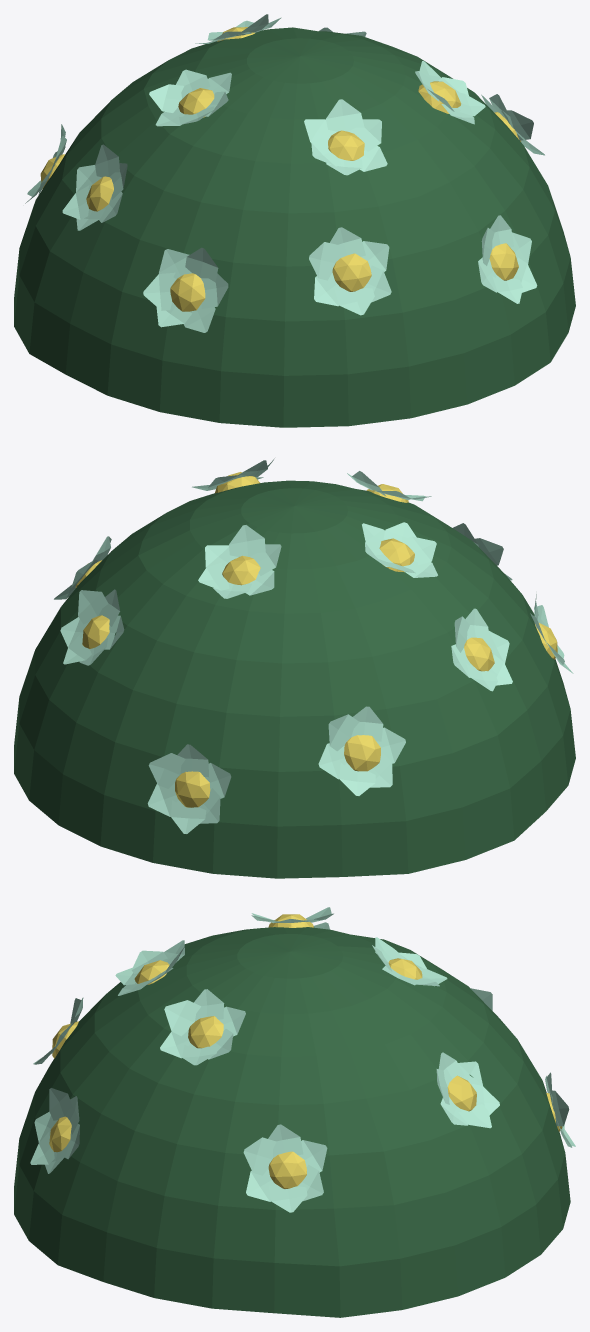
The model's file is arbusto3.glb.
The picture shows the model from 3 angles, top to bottom: view 1: azimuth 30°, elevation 25°; view 2: azimuth 150°, elevation 25°; view 3: azimuth 270°, elevation 25°; orthographic projection.
Visible parts, largest first — view 1: Esfera, Esfera geodésica.002, Esfera geodésica.010, Plano.070, Esfera geodésica.011, Plano.065, Esfera geodésica.008, Plano.016, Plano.017, Esfera geodésica.001, Plano.015, Plano.064 (+16 smaller); view 2: Esfera, Esfera geodésica.007, Esfera geodésica.004, Plano.058, Plano.028, Esfera geodésica.009, Esfera geodésica.006, Plano.029, Plano.047, Plano.034, Plano.045, Plano.046 (+13 smaller); view 3: Esfera, Esfera geodésica.003, Esfera geodésica.001, Plano.010, Plano.022, Esfera geodésica.005, Plano.023, Plano.021, Plano.009, Plano.018, Esfera geodésica.008, Plano.020 (+3 smaller).
Boxes of the visible parts, x1,y1,x2,y2 form: Esfera: [14, 27, 575, 427]; Esfera geodésica.002: [332, 253, 371, 291]; Esfera geodésica.010: [170, 273, 205, 311]; Plano.070: [326, 99, 364, 131]; Esfera geodésica.011: [328, 130, 364, 160]; Plano.065: [143, 272, 176, 310]; Esfera geodésica.008: [489, 243, 518, 280]; Plano.016: [309, 242, 337, 280]; Plano.017: [335, 288, 374, 315]; Esfera geodésica.001: [418, 81, 461, 113]; Plano.015: [330, 227, 365, 262]; Plano.064: [185, 247, 218, 282]; Esfera: [14, 480, 575, 878]; Esfera geodésica.007: [344, 735, 380, 771]; Esfera geodésica.004: [175, 771, 210, 807]; Plano.058: [229, 525, 265, 556]; Plano.028: [148, 753, 185, 788]; Esfera geodésica.009: [222, 555, 260, 585]; Esfera geodésica.006: [464, 637, 494, 671]; Plano.029: [171, 800, 206, 833]; Plano.047: [339, 762, 375, 795]; Plano.034: [78, 590, 108, 624]; Plano.045: [351, 706, 383, 741]; Plano.046: [328, 714, 359, 751]; Esfera: [14, 927, 570, 1317]; Esfera geodésica.003: [268, 1151, 306, 1188]; Esfera geodésica.001: [188, 1016, 223, 1048]; Plano.010: [164, 1000, 201, 1036]; Plano.022: [243, 1137, 276, 1175]; Esfera geodésica.005: [447, 1075, 476, 1111]; Plano.023: [269, 1184, 307, 1212]; Plano.021: [268, 1124, 303, 1157]; Plano.009: [194, 989, 224, 1021]; Plano.018: [246, 1168, 274, 1201]; Esfera geodésica.008: [49, 1116, 71, 1152]; Plano.020: [299, 1140, 327, 1172].
Bounding box in the file's own units: 1.96 × 1.02 × 1.98.
